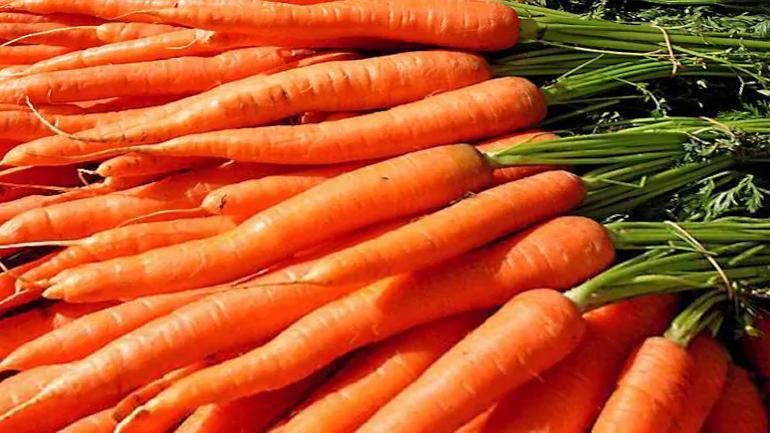carrot: (0, 3, 765, 433)
